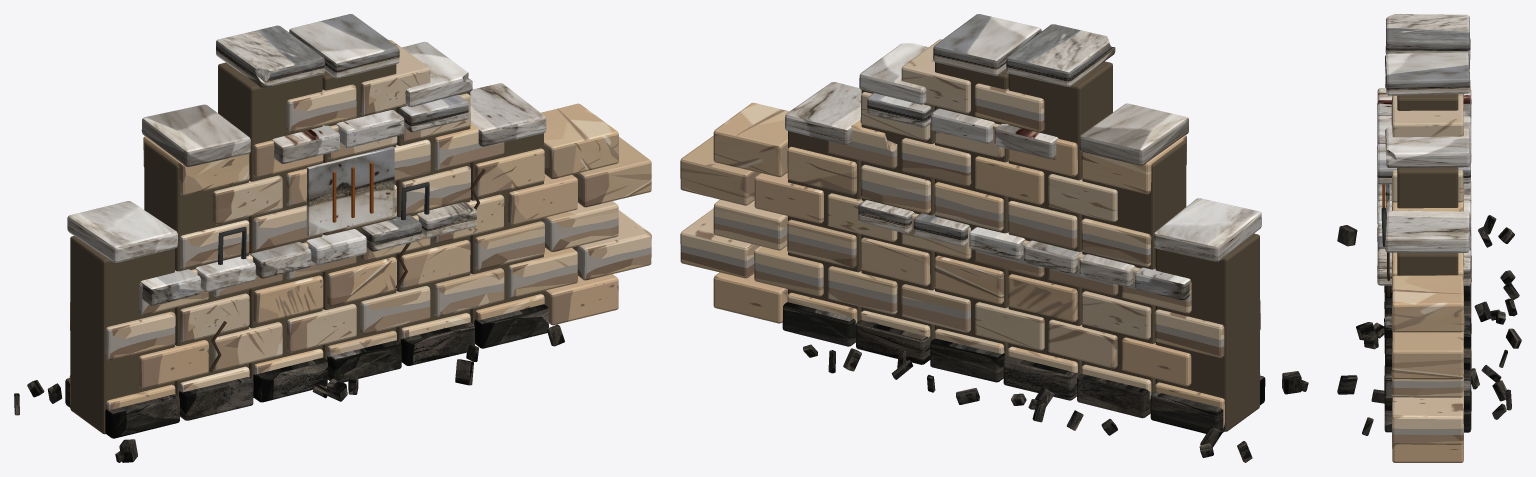
Rendered from ruin_wall_260_LOD0.glb.
3 renders of one model, left to right at view 1: azimuth 30°, elevation 25°; view 2: azimuth 150°, elevation 25°; view 3: azimuth 270°, elevation 25°, orthographic. The views are drawn at different scales.
Parts seen in each view (by area): view 1: RuinWallCore, RuinWallCore.002, ReliefPanel, RuinWallCore.001, BrokenWallCap.001, BrokenWallCap, BrokenWallCap.002, RuinWallAshlar.033, BrokenWallCap.003, BrokenWallCap.005, RuinWallAshlar.013, RuinWallAshlar.027 (+56 smaller); view 2: RuinWallCore, RuinWallCore.002, RuinWallCore.001, BrokenWallCap, BrokenWallCap.001, BrokenWallCap.002, RuinWallAshlar.033, BrokenWallCap.003, RuinWallCore.003, BrokenWallCap.005, RuinWallAshlar.027, RuinWallAshlar.013 (+59 smaller); view 3: RuinWallAshlar.033, BrokenWallCap.003, BrokenWallCap.005, RuinWallAshlar.013, RuinWallAshlar.027, BrokenWallCap.002, BrokenWallCap.004, RuinWallCore.004, RuinWallAshlar.043, RuinWallCore.005, RuinWallAshlar.020, RuinWallAshlar.006 (+21 smaller).
Boxes of the visible parts, x1=… form: RuinWallCore: x1=70, y1=236, x2=174, y2=434; RuinWallCore.002: x1=218, y1=62, x2=322, y2=397; ReliefPanel: x1=306, y1=146, x2=394, y2=236; RuinWallCore.001: x1=144, y1=142, x2=248, y2=396; BrokenWallCap.001: x1=141, y1=104, x2=250, y2=166; BrokenWallCap: x1=67, y1=201, x2=177, y2=262; BrokenWallCap.002: x1=216, y1=25, x2=324, y2=87; RuinWallAshlar.033: x1=541, y1=103, x2=618, y2=179; BrokenWallCap.003: x1=289, y1=14, x2=399, y2=78; BrokenWallCap.005: x1=470, y1=83, x2=546, y2=146; RuinWallAshlar.013: x1=572, y1=210, x2=651, y2=280; RuinWallAshlar.027: x1=572, y1=137, x2=651, y2=207; RuinWallCore: x1=1155, y1=233, x2=1259, y2=431; RuinWallCore.002: x1=1008, y1=61, x2=1112, y2=375; RuinWallCore.001: x1=1082, y1=140, x2=1186, y2=393; BrokenWallCap: x1=1154, y1=198, x2=1261, y2=261; BrokenWallCap.001: x1=1079, y1=103, x2=1188, y2=165; BrokenWallCap.002: x1=1006, y1=24, x2=1115, y2=86; RuinWallAshlar.033: x1=713, y1=102, x2=788, y2=177; BrokenWallCap.003: x1=933, y1=14, x2=1041, y2=75; RuinWallCore.003: x1=935, y1=62, x2=1008, y2=358; BrokenWallCap.005: x1=785, y1=82, x2=861, y2=145; RuinWallAshlar.027: x1=680, y1=136, x2=760, y2=205; RuinWallAshlar.013: x1=680, y1=208, x2=759, y2=278; RuinWallAshlar.033: x1=1392, y1=275, x2=1464, y2=332; BrokenWallCap.003: x1=1385, y1=52, x2=1470, y2=95; BrokenWallCap.005: x1=1385, y1=210, x2=1470, y2=252; RuinWallAshlar.013: x1=1391, y1=390, x2=1463, y2=444; RuinWallAshlar.027: x1=1392, y1=331, x2=1463, y2=379; BrokenWallCap.002: x1=1385, y1=14, x2=1469, y2=54; BrokenWallCap.004: x1=1385, y1=126, x2=1470, y2=167; RuinWallCore.004: x1=1397, y1=167, x2=1458, y2=208; RuinWallAshlar.043: x1=1391, y1=95, x2=1463, y2=137; RuinWallCore.005: x1=1397, y1=252, x2=1458, y2=275; RuinWallAshlar.020: x1=1391, y1=346, x2=1463, y2=397; RuinWallAshlar.006: x1=1392, y1=424, x2=1463, y2=462.
Size of the model in its own units: 5.03 by 2.79 by 1.54.
7 materials, 3 textured.
